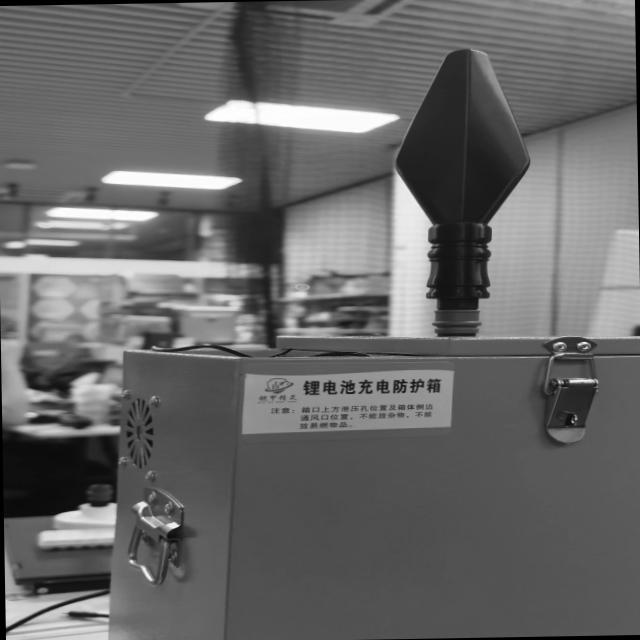base: (432, 308, 481, 338)
